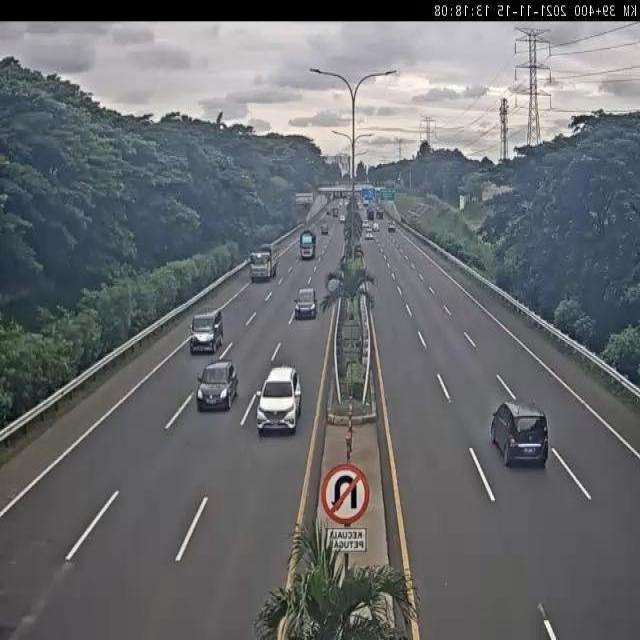Car: (489, 401, 550, 468), (256, 366, 302, 436), (196, 362, 240, 412), (292, 286, 320, 320)
Truck: (249, 243, 280, 282), (299, 228, 316, 262)
Van: (186, 308, 226, 356)
